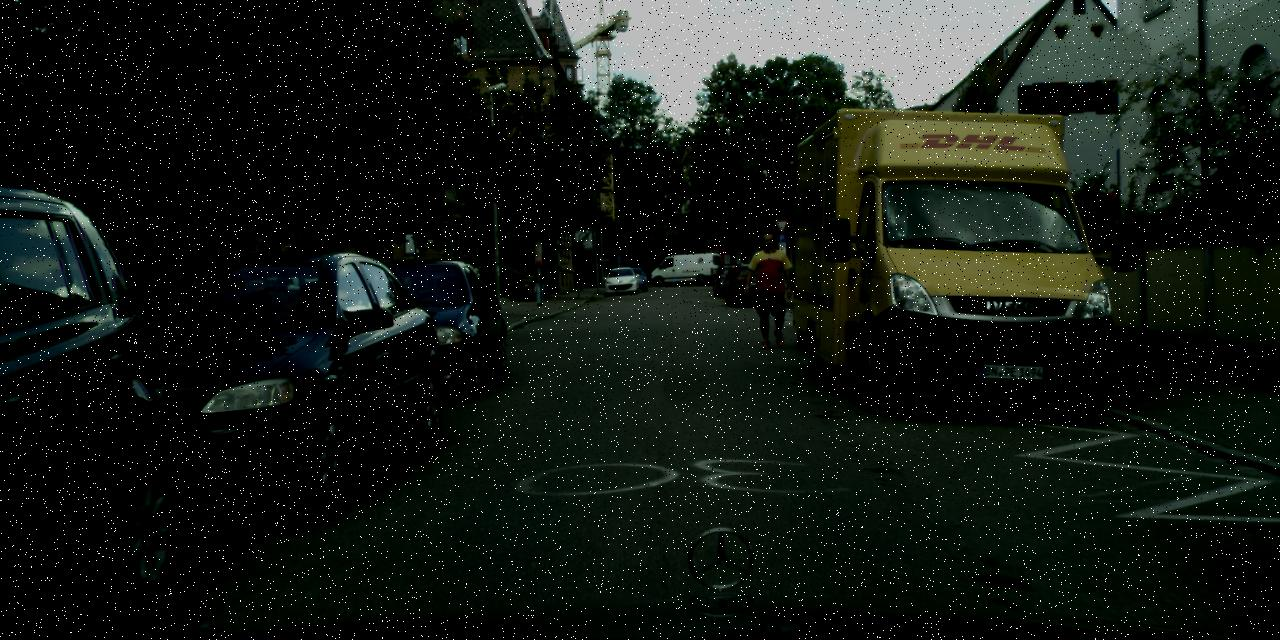ped: (746, 232, 793, 346), (530, 260, 548, 304)
